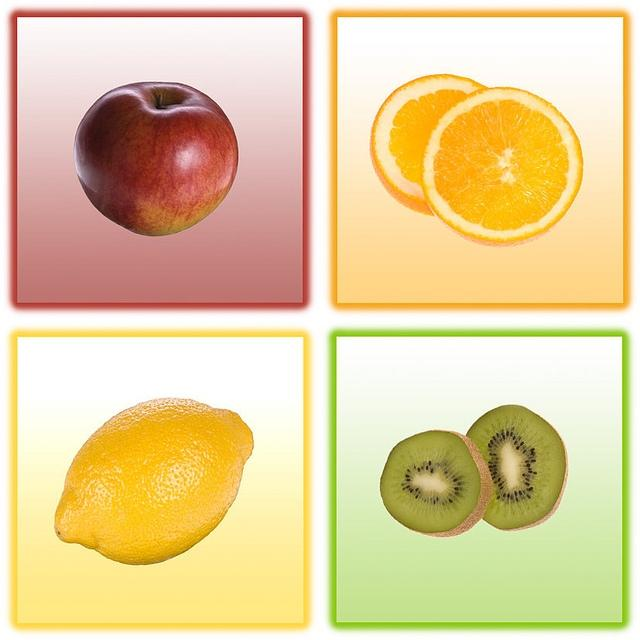apple: (74, 81, 240, 237)
kiwi: (466, 404, 568, 532), (380, 430, 492, 538)
lemon: (54, 397, 254, 565), (420, 86, 584, 248), (369, 74, 488, 216)
orange: (420, 86, 583, 248), (369, 74, 490, 218)
